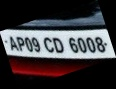character: (94, 36, 106, 53), (51, 37, 63, 53), (43, 36, 54, 53), (86, 37, 97, 53), (68, 37, 78, 53), (76, 37, 86, 53), (9, 36, 19, 51), (15, 36, 25, 51), (31, 36, 40, 52), (24, 37, 33, 52)
